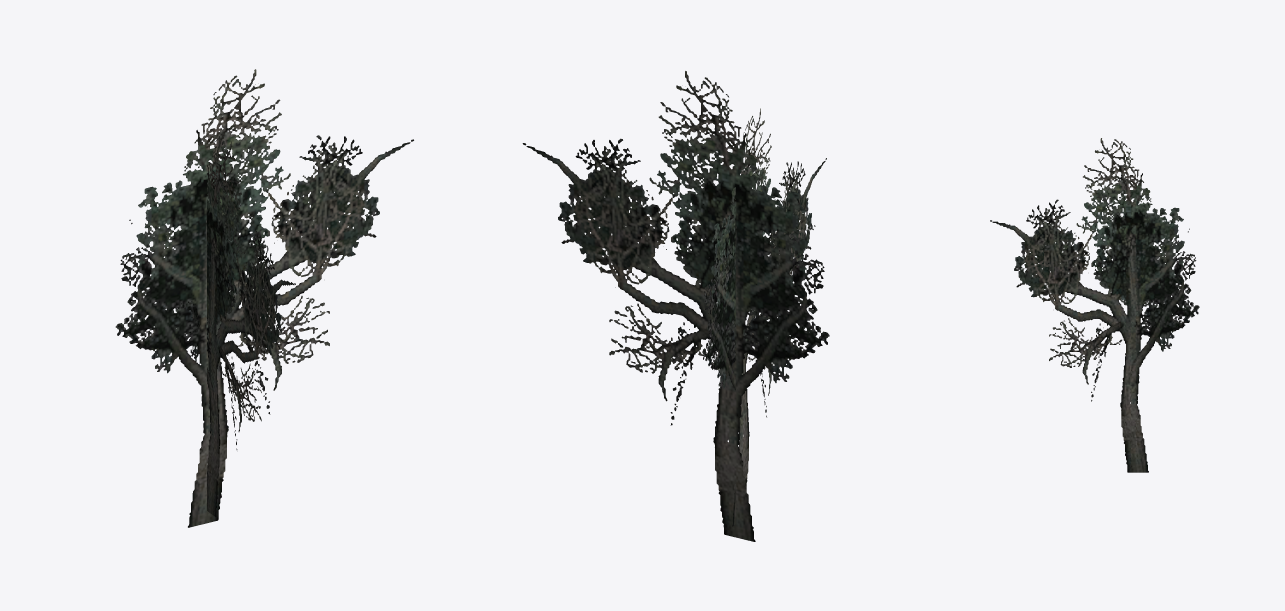
File: ever_torreypinetree_l3.fbx
3 renders of one model, left to right at view 1: azimuth 30°, elevation 25°; view 2: azimuth 150°, elevation 25°; view 3: azimuth 270°, elevation 25°, orthographic. The views are drawn at different scales.
Visible parts, largest first — view 1: mesh_node; view 2: mesh_node; view 3: mesh_node.
Boxes of the visible parts, box(x1,y1,x2,y2) form: mesh_node: box(115, 69, 413, 527); mesh_node: box(522, 71, 829, 541); mesh_node: box(990, 138, 1199, 472).
Size of the model in its own units: 9.13 by 9.13 by 6.42.
